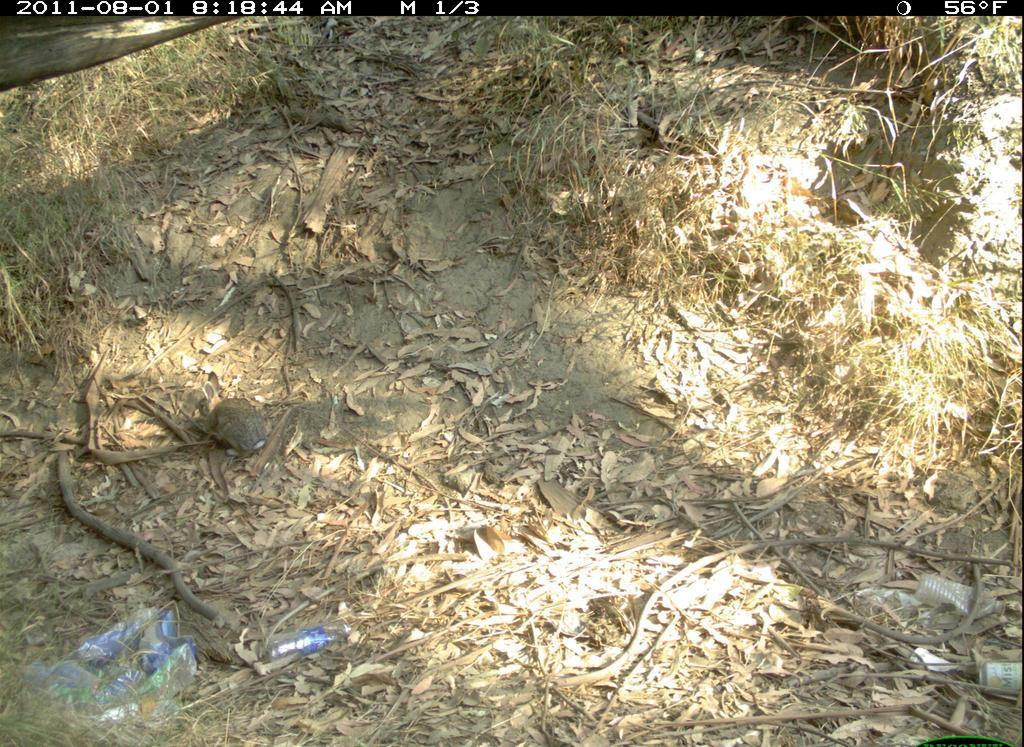rabbit: (193, 364, 278, 461)
